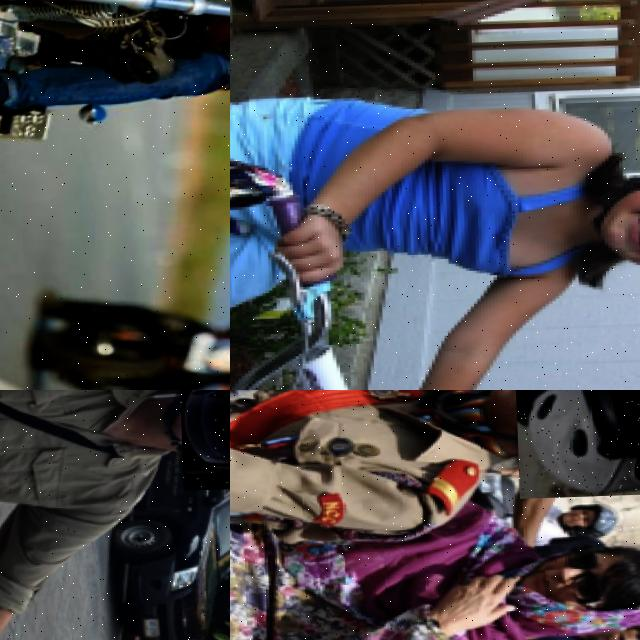helmet: (513, 390, 640, 498), (561, 503, 624, 540)
